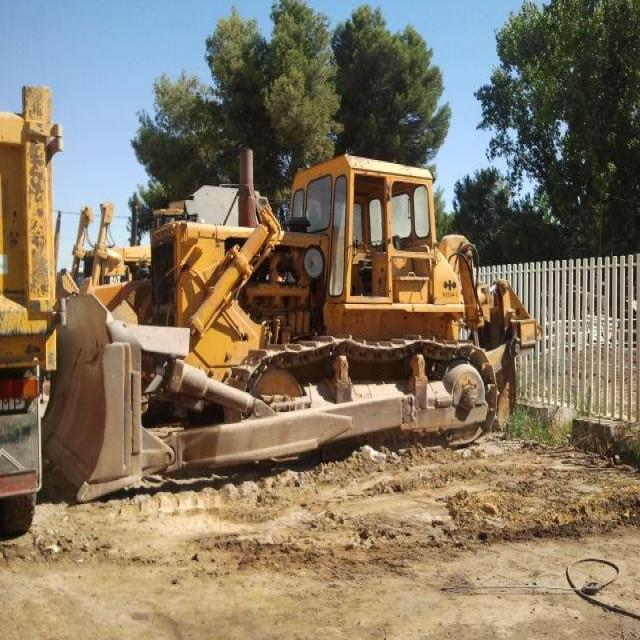Bulldozer: (62, 126, 544, 514)
